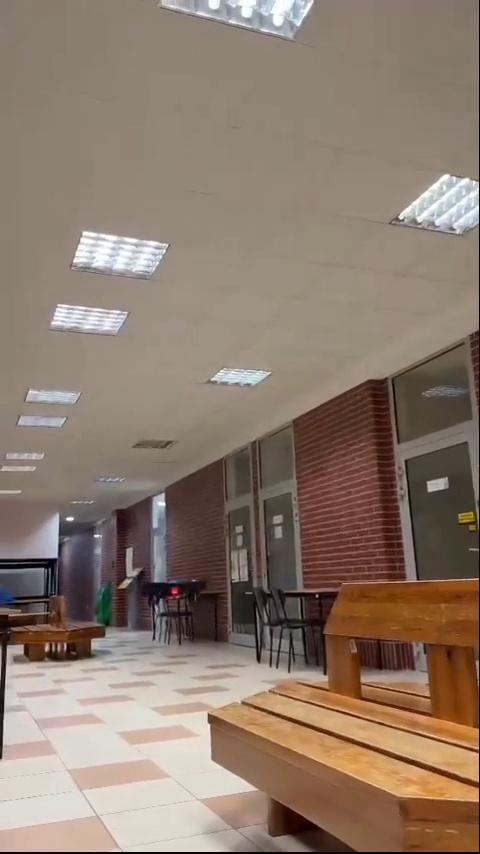drone: (141, 576, 210, 603)
